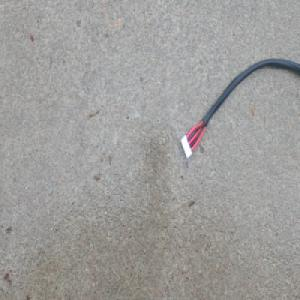Wire: (178, 58, 300, 161)
